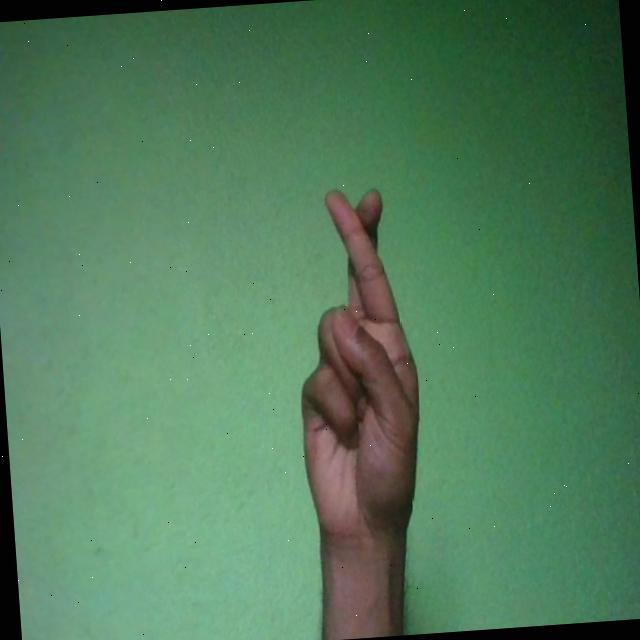Ok: (284, 186, 430, 557)
